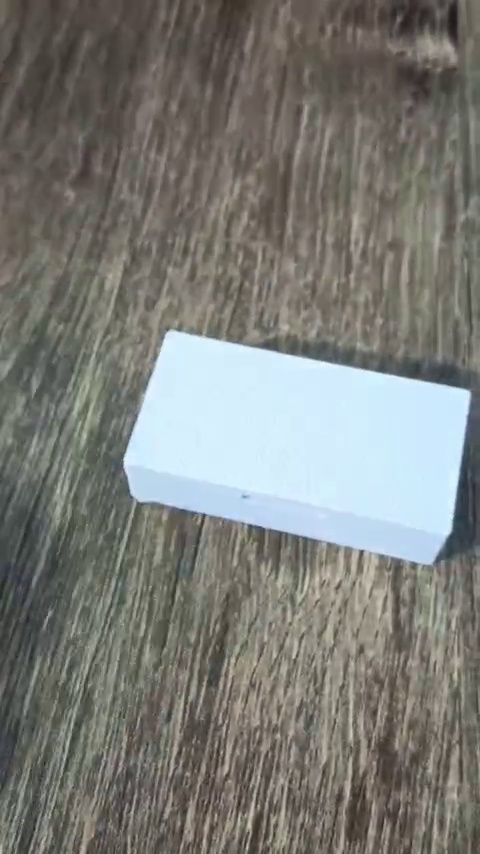enclosure: (121, 329, 475, 567)
